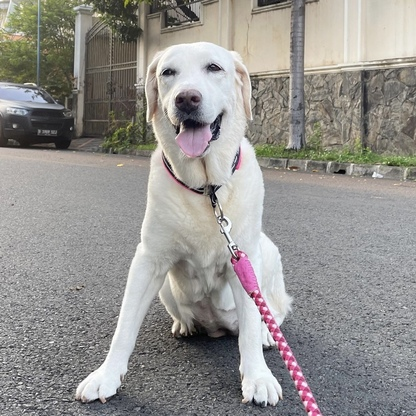labrado: (70, 37, 296, 410)
